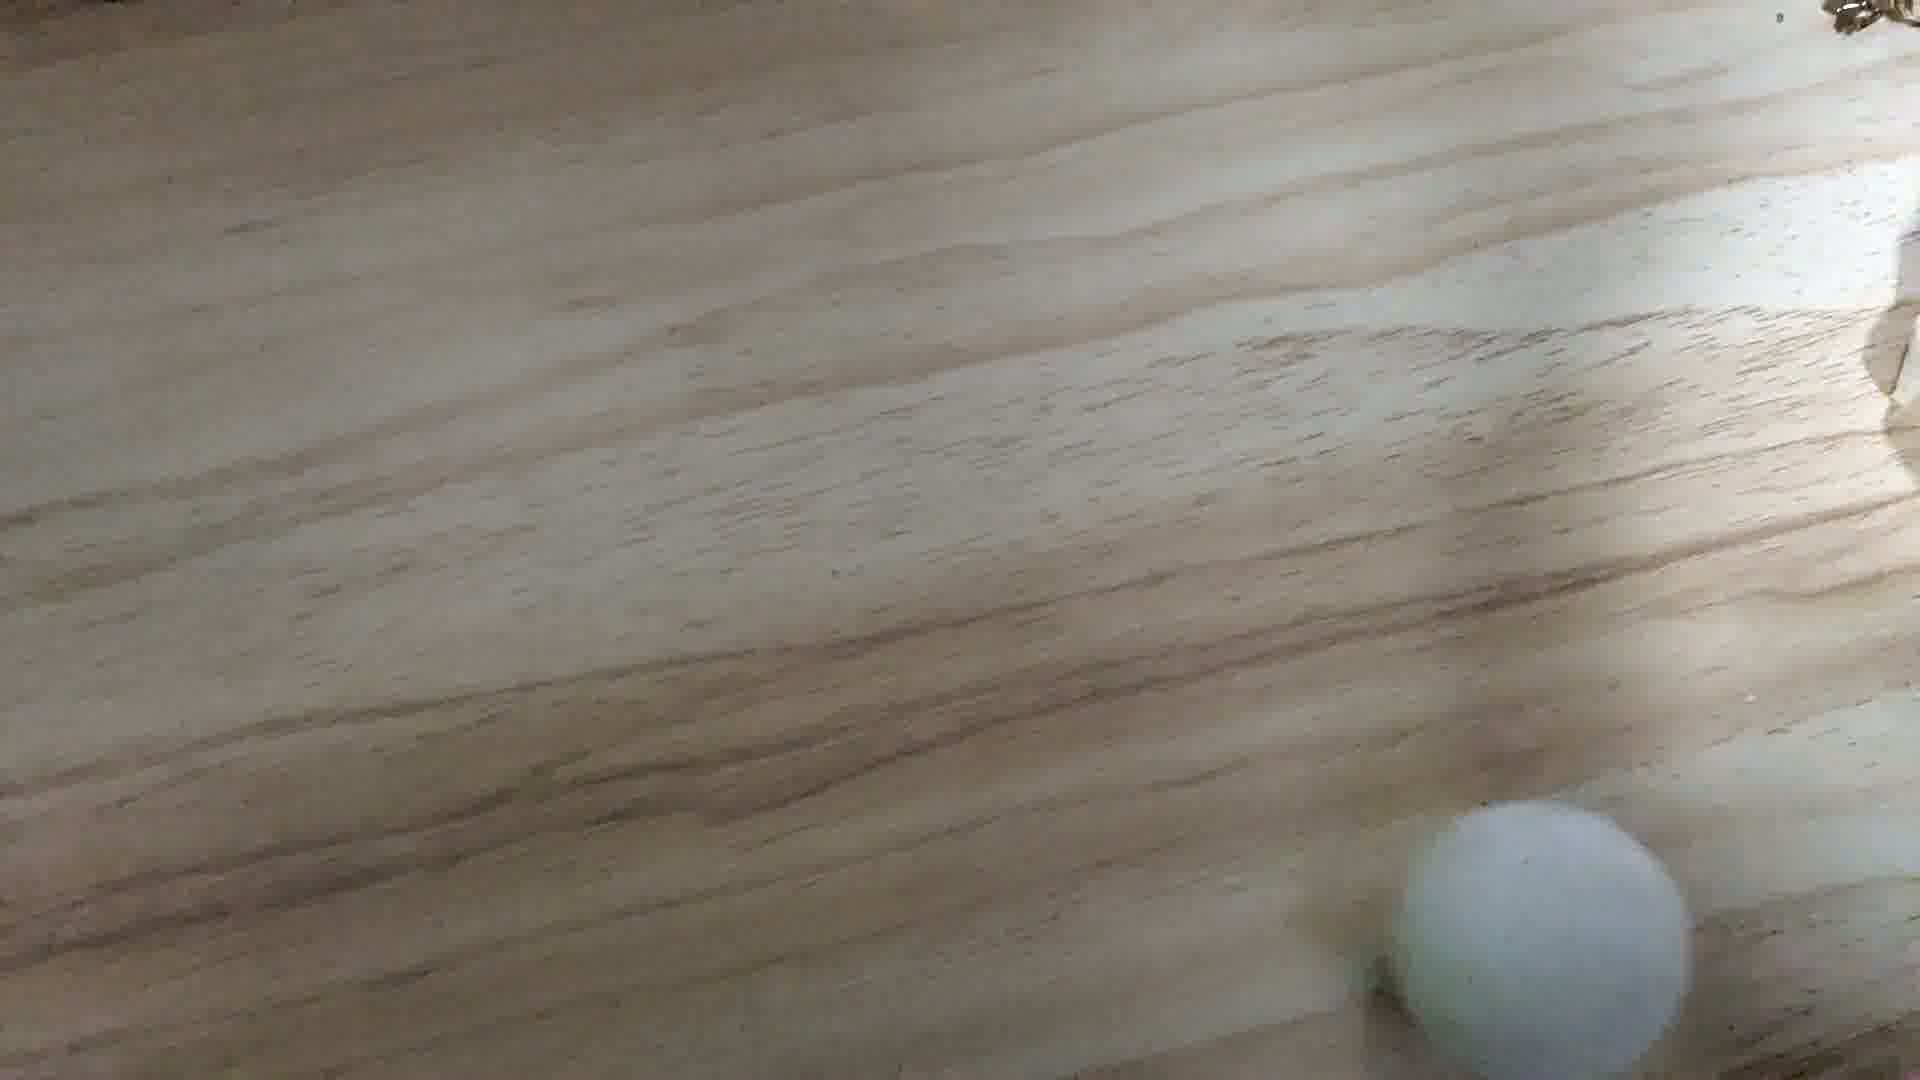Ball: (1389, 790, 1698, 1080)
